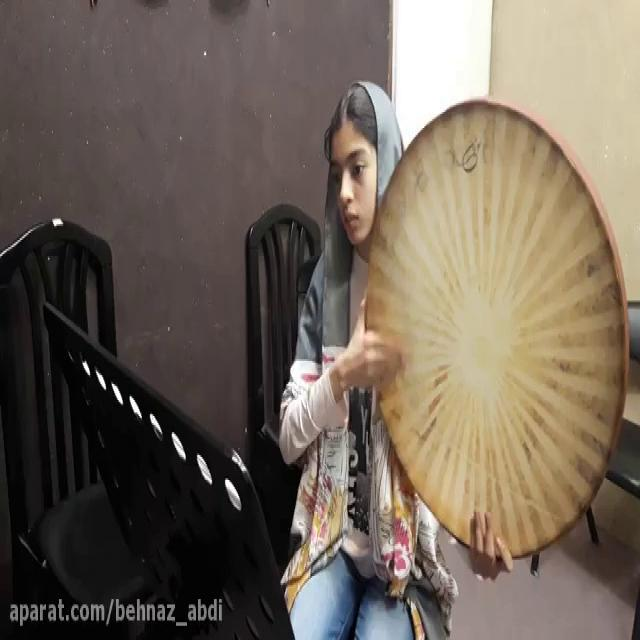Daf: (367, 95, 630, 563)
